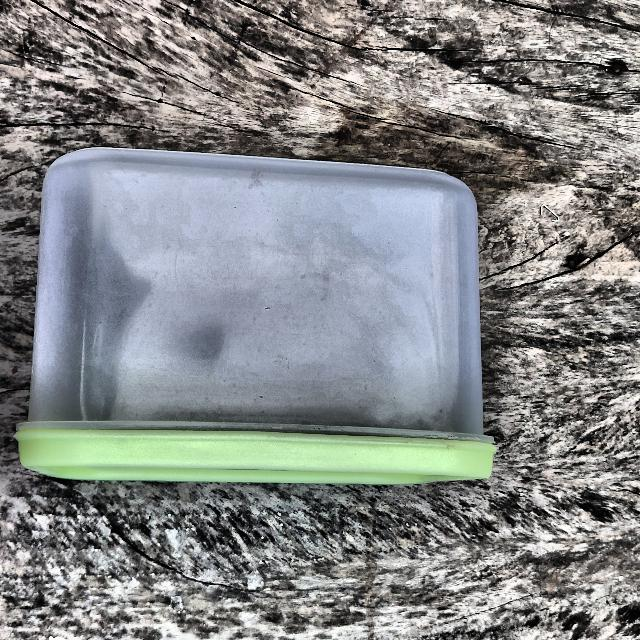plastic container: (13, 142, 512, 508)
